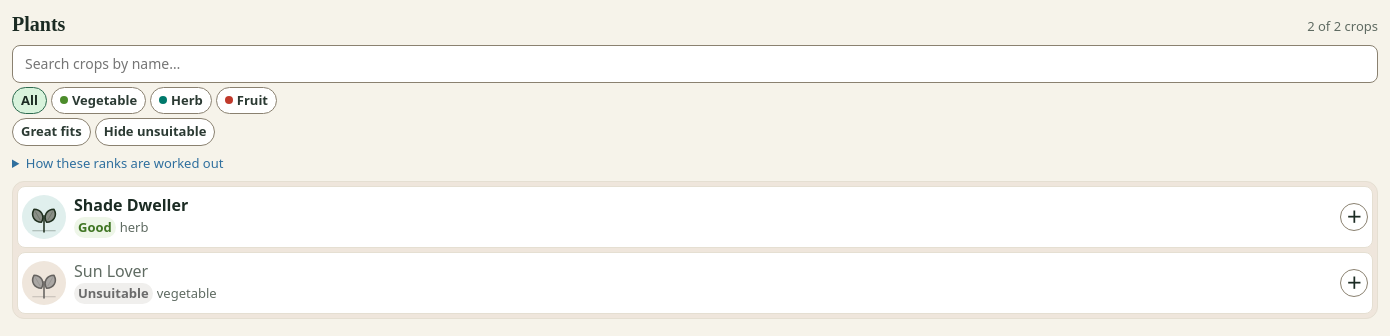
Test: PlantPalette › narrows the rendered list to great fits
This screenshot has width=1390, height=336.
Check: the text "Sun Lover" is shown, box [74,260,148,282]
What coordinates should you click on to do the following:
click the checkbox labelled "Great fits"
I would click on:
 (51, 132)
Its box is [12,118,91,146].
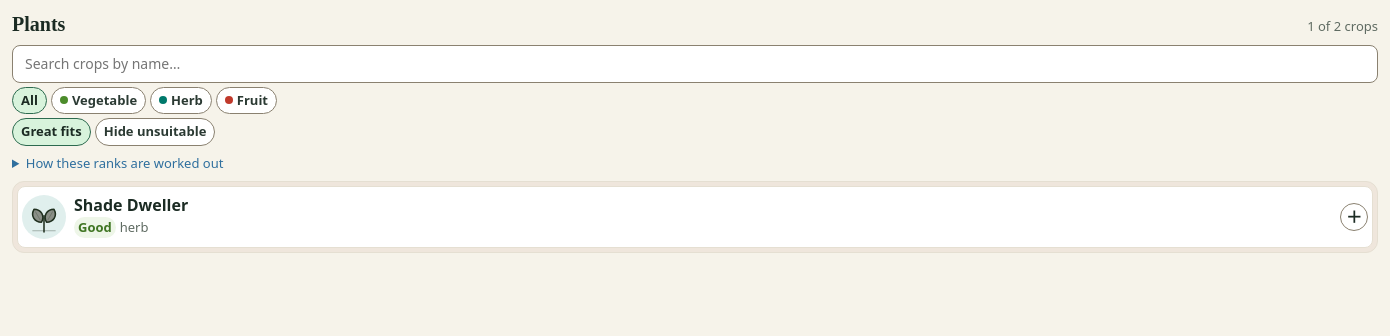
Check: the text "Shade Dweller" is shown, box [74,196,188,215]
Check: the button "Sun Lover" is gone
